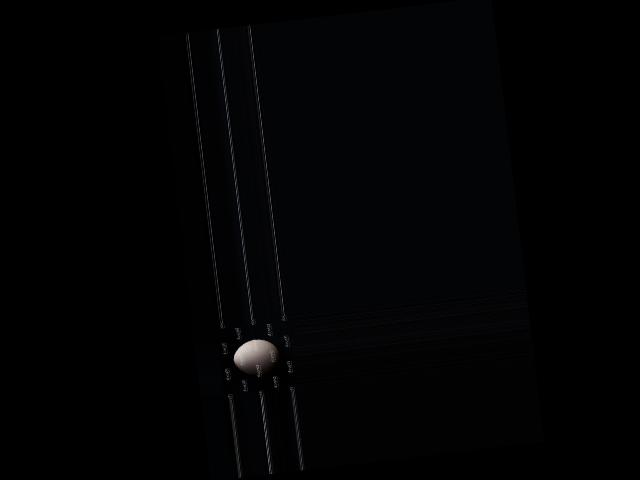egg: (231, 337, 281, 377)
